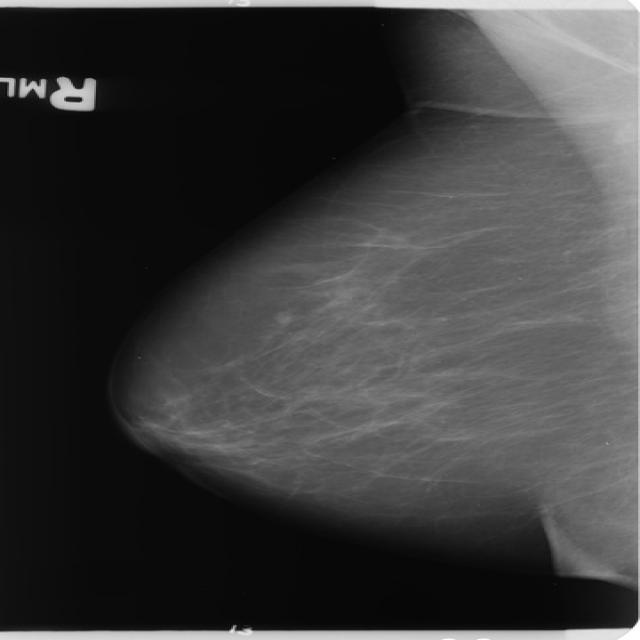tumour: (272, 308, 292, 324)
